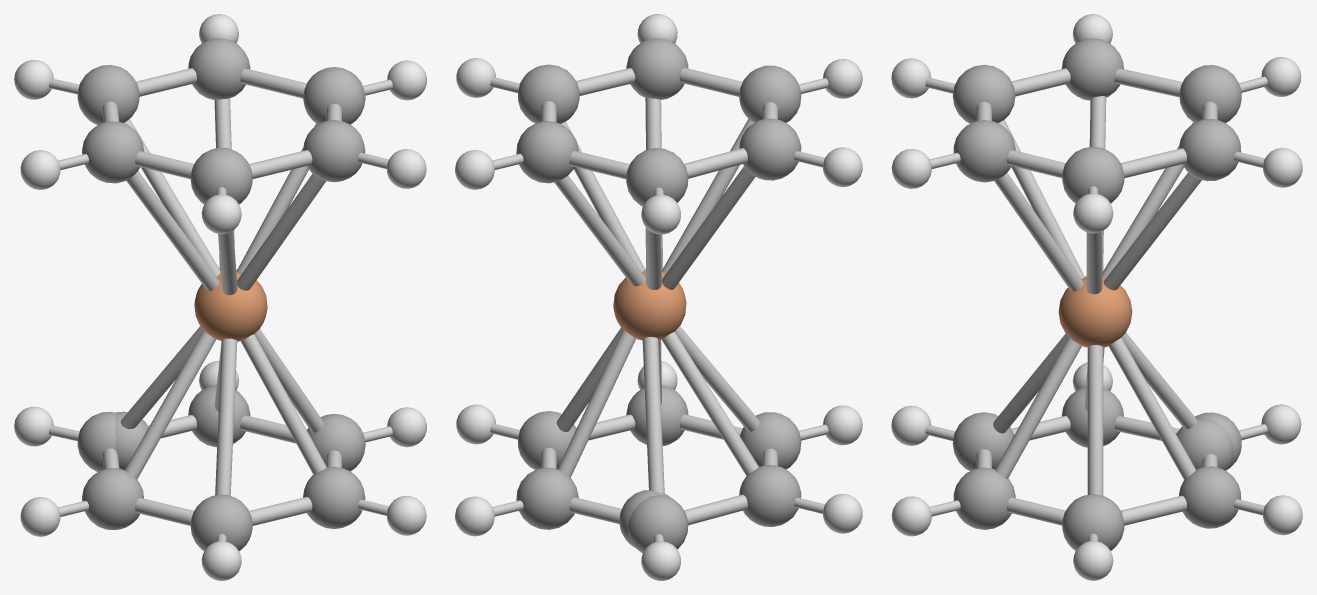
The picture shows the model from 3 angles, left to right: view 1: azimuth 30°, elevation 25°; view 2: azimuth 150°, elevation 25°; view 3: azimuth 270°, elevation 25°; orthographic projection.
Visible parts, largest first — view 1: Atom_0_FE_0, Atom_4_C_005, Atom_2_C_003, Atom_2_C, Atom_4_C, Atom_4_C_004, Atom_4_C_003, Atom_2_C_002, Atom_0_C, Atom_0_C_001, Bond_016, Bond_015 (+31 smaller); view 2: Atom_0_FE_0, Atom_4_C_004, Atom_4_C_005, Atom_4_C_001, Atom_4_C, Atom_2_C_003, Atom_2_C_002, Atom_0_C_001, Atom_4_C_003, Bond_016, Bond_012, Atom_4_C_002 (+32 smaller); view 3: Atom_0_FE_0, Atom_4_C_004, Atom_2_C_003, Atom_4_C_001, Atom_2_C, Atom_4_C_005, Atom_0_C_001, Atom_4_C_003, Atom_2_C_001, Atom_2_C_002, Bond_014, Bond_017 (+32 smaller).
Boxes of the visible parts, box(x1,y1,x2,y2) form: Atom_0_FE_0: box(194, 269, 267, 341); Atom_4_C_005: box(82, 121, 143, 183); Atom_2_C_003: box(303, 120, 365, 182); Atom_2_C: box(303, 467, 365, 528); Atom_4_C: box(82, 468, 143, 529); Atom_4_C_004: box(188, 38, 250, 99); Atom_4_C_003: box(77, 65, 139, 125); Atom_2_C_002: box(303, 67, 365, 124); Atom_0_C: box(190, 494, 252, 551); Atom_0_C_001: box(190, 148, 252, 204); Bond_016: box(124, 330, 216, 479); Bond_015: box(215, 338, 237, 495); Atom_0_FE_0: box(613, 268, 686, 340); Atom_4_C_004: box(516, 121, 578, 183); Atom_4_C_005: box(739, 118, 801, 180); Atom_4_C_001: box(516, 467, 578, 529); Atom_4_C: box(739, 465, 801, 526); Atom_2_C_003: box(626, 38, 688, 99); Atom_2_C_002: box(518, 64, 579, 123); Atom_0_C_001: box(739, 65, 801, 122); Atom_4_C_003: box(626, 148, 688, 206); Bond_016: box(661, 332, 758, 475); Bond_012: box(642, 337, 664, 493); Atom_4_C_002: box(627, 495, 688, 552); Atom_0_FE_0: box(1058, 276, 1132, 347); Atom_4_C_004: box(1179, 119, 1241, 181); Atom_2_C_003: box(953, 120, 1015, 182); Atom_4_C_001: box(1179, 466, 1241, 528); Atom_2_C: box(953, 467, 1015, 529); Atom_4_C_005: box(1061, 38, 1123, 100); Atom_0_C_001: box(952, 65, 1015, 123); Atom_4_C_003: box(1179, 65, 1241, 122); Atom_2_C_001: box(1062, 494, 1124, 550); Atom_2_C_002: box(1062, 146, 1124, 203); Bond_014: box(1087, 345, 1103, 495); Bond_017: box(1108, 337, 1195, 480).
Size of the model in its own units: 5.03 by 4.83 by 4.46.
